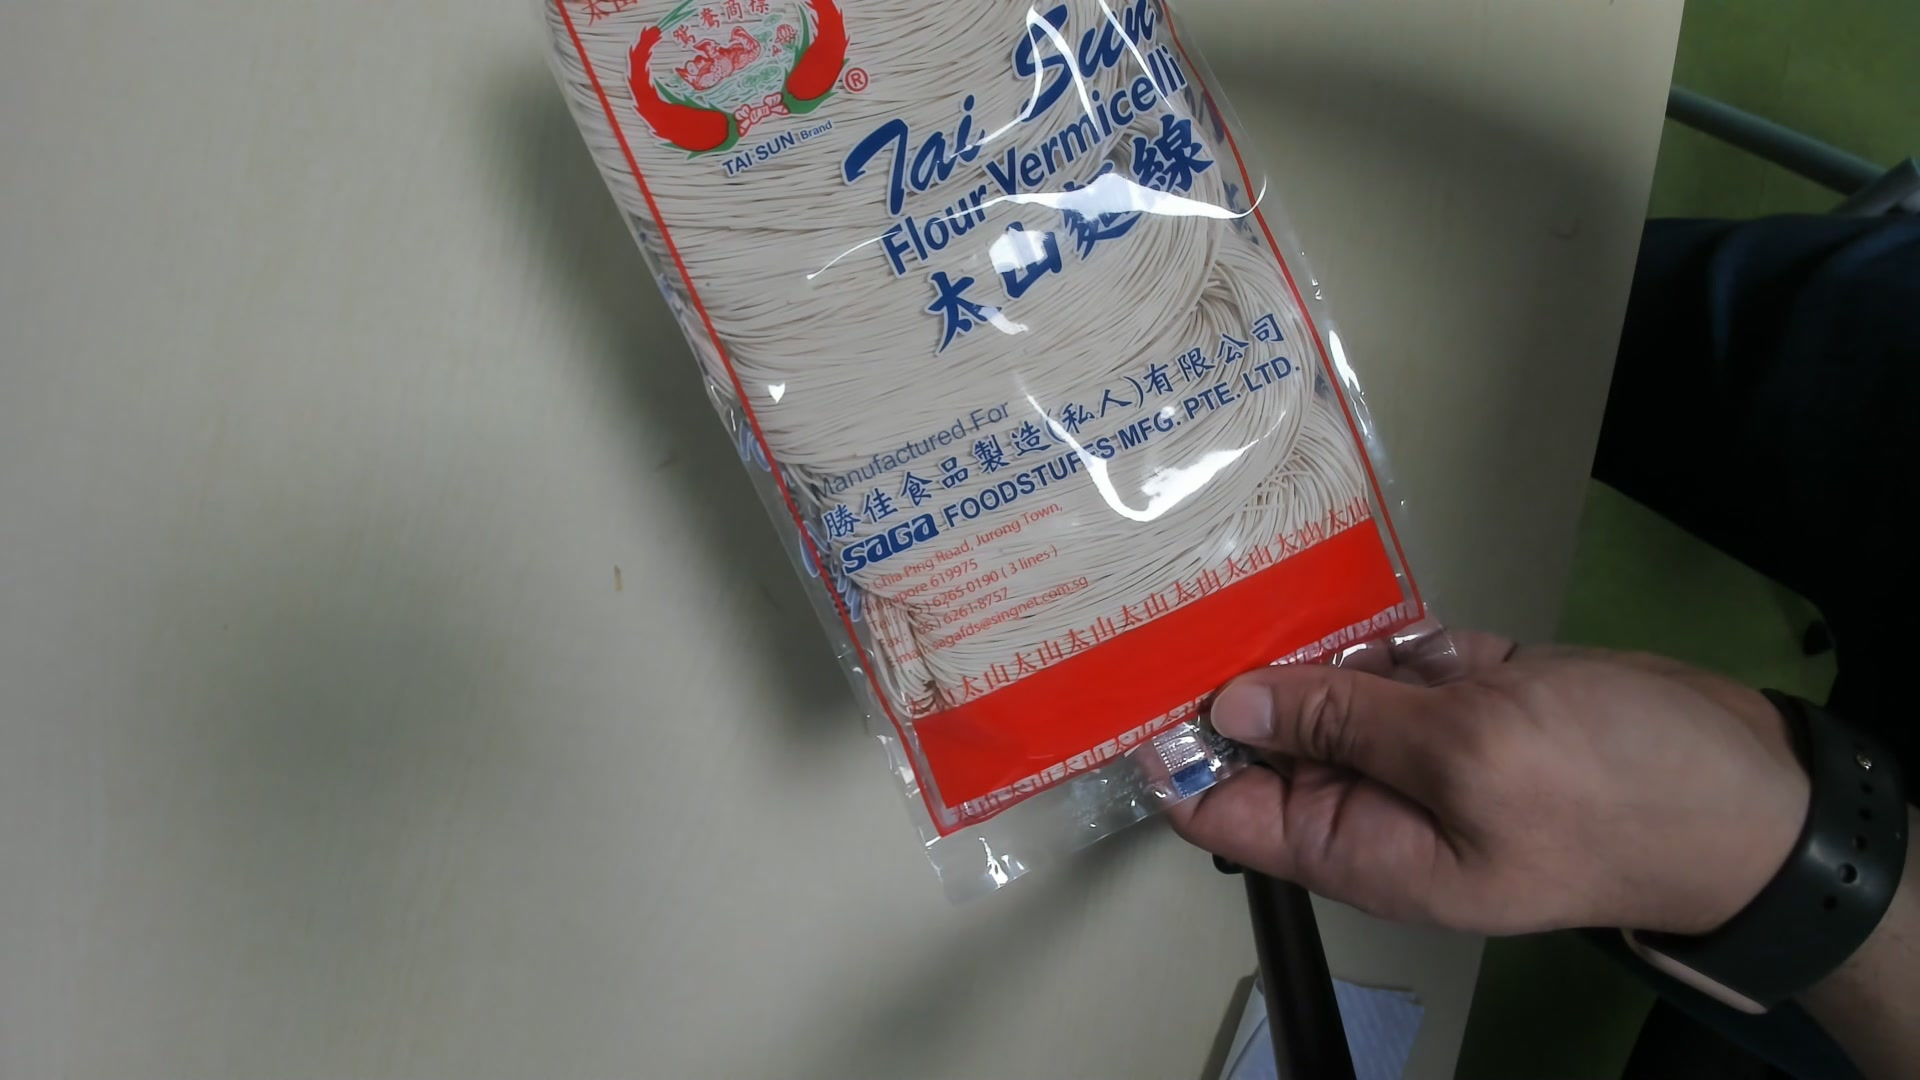BeeHoonVermicelli_300-399g_Halal_NonHealthy: (542, 5, 1433, 909)
